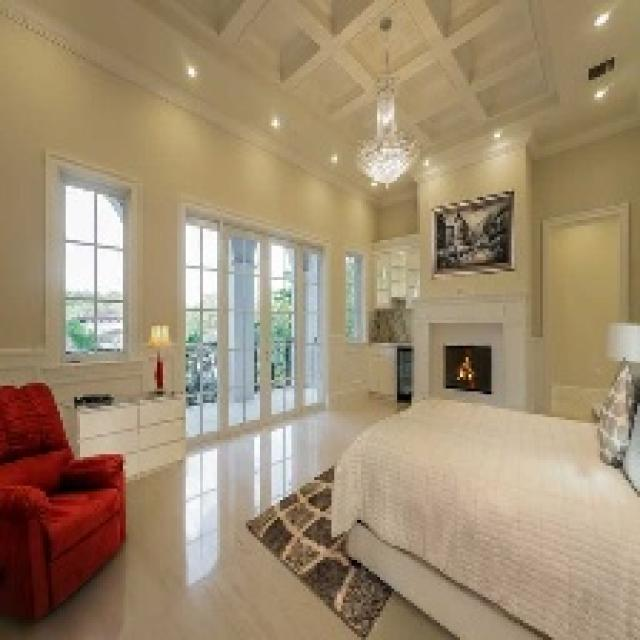Bed: (329, 394, 637, 637)
